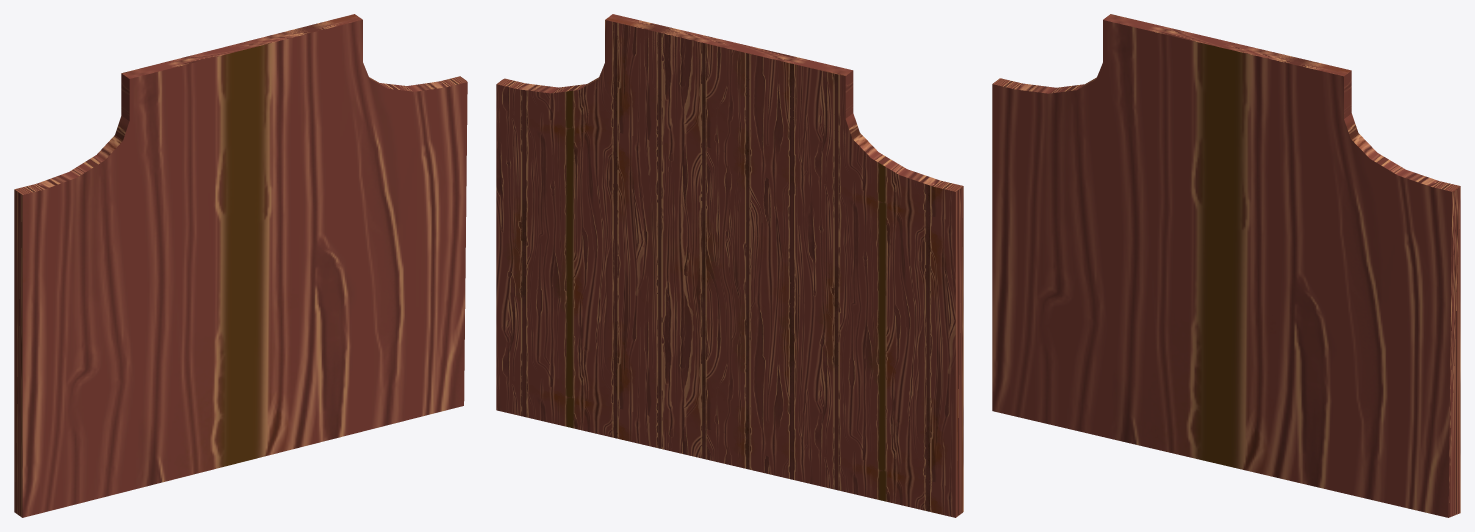
3 views of the same model, side by side, from view 1: azimuth 30°, elevation 25°; view 2: azimuth 150°, elevation 25°; view 3: azimuth 330°, elevation 25° (orthographic).
Parts seen in each view (by area): view 1: Cube.1469; view 2: Cube.1469; view 3: Cube.1469.
Boxes of the visible parts, bbox=[...] form: Cube.1469: bbox=[14, 14, 467, 517]; Cube.1469: bbox=[496, 14, 963, 517]; Cube.1469: bbox=[992, 14, 1460, 517].
Size of the model in its own units: 1086 by 949 by 52.02.
Materials: 1 (1 with a texture image).
